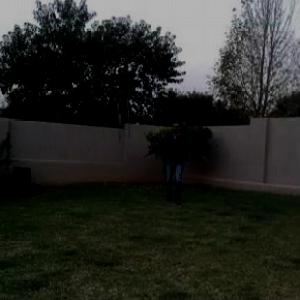land: (147, 113, 215, 205)
